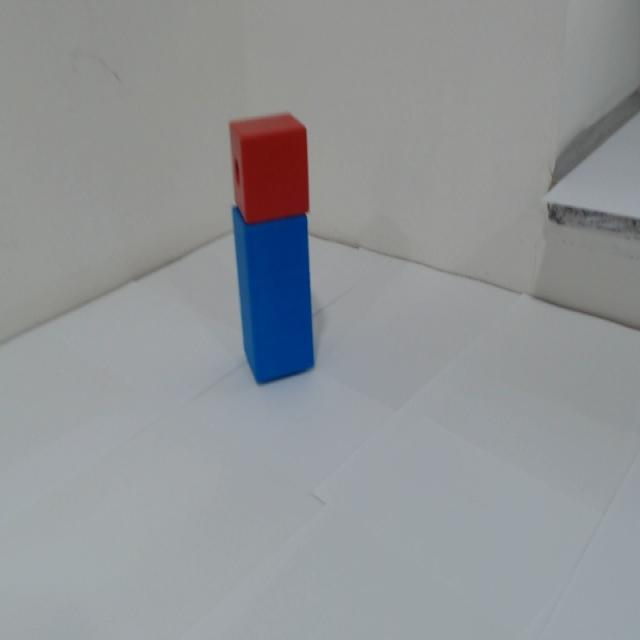cube: (218, 114, 322, 227)
